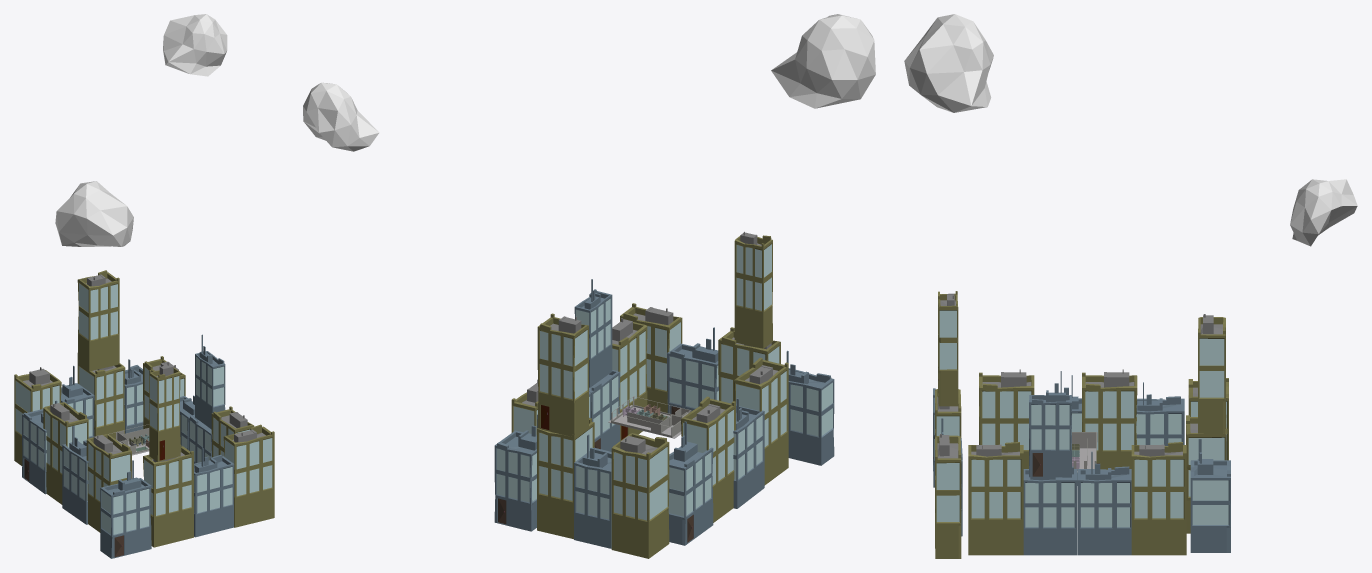
File: Low-Poly-Officev2 (1).fbx
3 renders of one model, left to right at view 1: azimuth 30°, elevation 25°; view 2: azimuth 150°, elevation 25°; view 3: azimuth 270°, elevation 25°, orthographic. The views are drawn at different scales.
Parts seen in each view (by area): view 1: Building_1.011, S.Building_01, Icosphere.002, Building_1.018, Building_1.010, Icosphere.001, Building_1.012, S.Building_02, Building_1.002, Building_1.009, Building_1.017, Building_1.007 (+10 smaller); view 2: Icosphere.002, Building_1.007, Building_1.018, Building_1.017, S.Building_02, Building_1.010, Building_1, Building_1.002, Building_1.006, Building_1.009, Building_1.008, Icosphere.001 (+9 smaller); view 3: Icosphere.002, Building_1.015, Building_1.004, Building_1.003, Building_1.009, Building_1.005, Building_1.006, Building_1.002, Building_1.016, Building_1.011, Building_1.018, Icosphere.001 (+6 smaller).
Boxes of the visible parts, box(x1,y1,x2,y2) form: Building_1.011: box(223, 424, 274, 527); S.Building_01: box(143, 445, 193, 547); Icosphere.002: box(55, 181, 133, 246); Building_1.018: box(77, 270, 119, 371); Building_1.010: box(100, 460, 151, 558); Icosphere.001: box(163, 14, 227, 76); Building_1.012: box(194, 447, 234, 537); S.Building_02: box(149, 362, 180, 461); Building_1.002: box(86, 434, 131, 532); Building_1.009: box(43, 402, 88, 504); Building_1.017: box(77, 363, 125, 439); Building_1.007: box(14, 367, 61, 465); Icosphere.002: box(771, 14, 875, 108); Building_1.007: box(611, 433, 669, 558); Building_1.018: box(537, 313, 588, 437); Building_1.017: box(537, 418, 594, 539); S.Building_02: box(734, 231, 772, 348); Building_1.010: box(786, 350, 834, 465); Building_1: box(668, 421, 713, 545); Building_1.002: box(734, 357, 788, 485); Building_1.006: box(494, 414, 537, 531); Building_1.009: box(681, 396, 735, 522); Building_1.008: box(574, 434, 611, 548); Icosphere.001: box(303, 82, 379, 151); Icosphere.002: box(904, 14, 993, 112); Building_1.015: box(968, 442, 1023, 555); Building_1.004: box(1131, 442, 1186, 555); Building_1.003: box(1078, 451, 1131, 555); Building_1.009: box(1082, 369, 1137, 469); Building_1.005: box(1023, 466, 1077, 555); Building_1.006: box(1190, 439, 1230, 552); Building_1.002: box(979, 369, 1034, 468); Building_1.016: box(1029, 371, 1071, 477); Building_1.011: box(935, 434, 961, 558); Building_1.018: box(1198, 314, 1225, 433); Icosphere.001: box(1290, 179, 1357, 246).
Bounding box in the file's own units: 37337 × 41706 × 38831.
